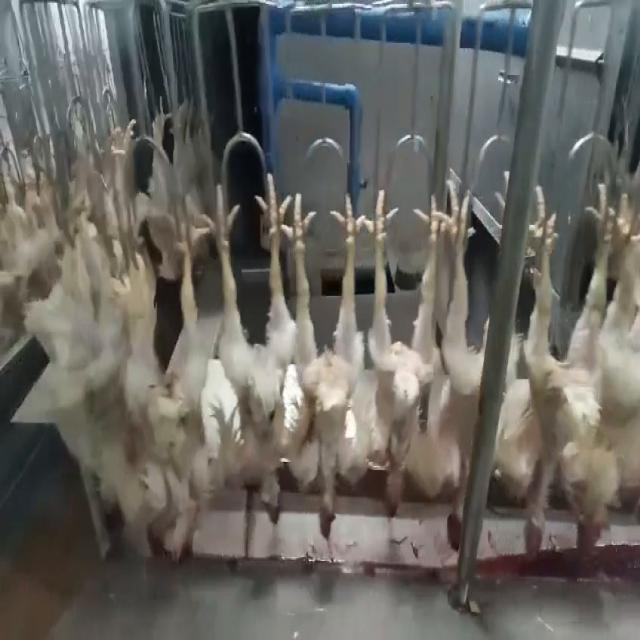chicken: (130, 168, 212, 570), (404, 177, 492, 551), (510, 180, 594, 568), (358, 172, 451, 518), (206, 155, 291, 530), (284, 177, 366, 541), (579, 168, 639, 568)
